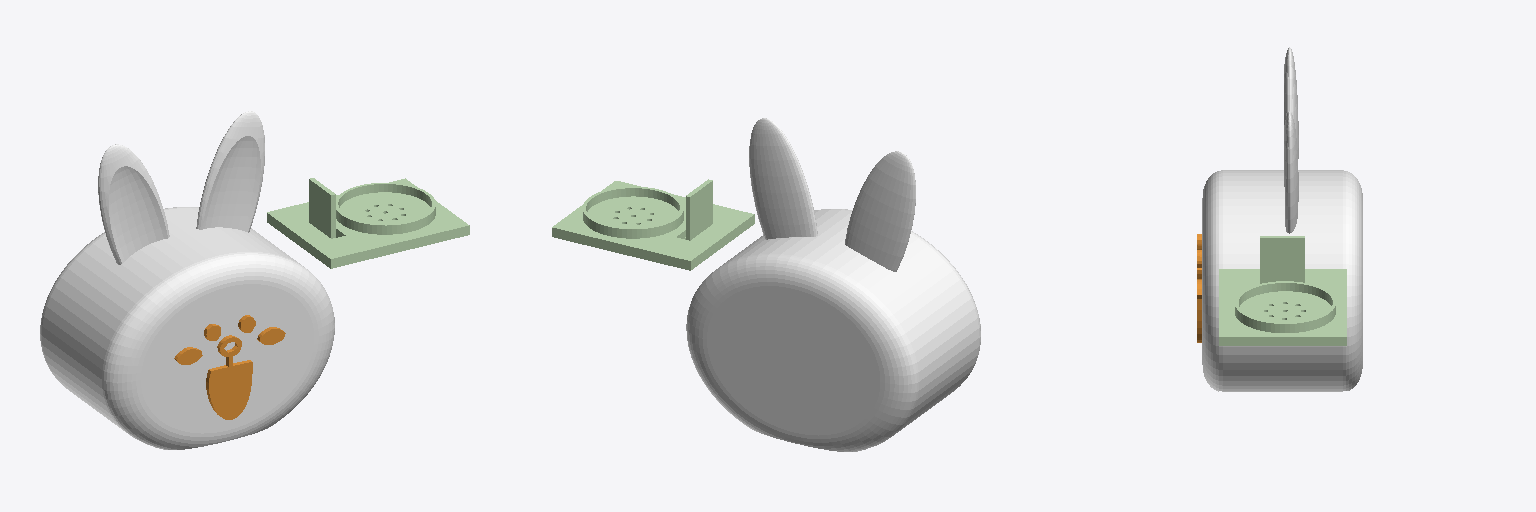
The model's file is tinker.obj.
3 renders of one model, left to right at view 1: azimuth 30°, elevation 25°; view 2: azimuth 150°, elevation 25°; view 3: azimuth 270°, elevation 25°, orthographic.
Visible parts, largest first — view 1: obj_0; view 2: obj_0; view 3: obj_0.
Part boxes in pixels (bbox=[...]): obj_0: bbox=[40, 111, 469, 449]; obj_0: bbox=[552, 118, 980, 451]; obj_0: bbox=[1197, 47, 1362, 391].
Size of the model in its own units: 158 by 117 by 62.